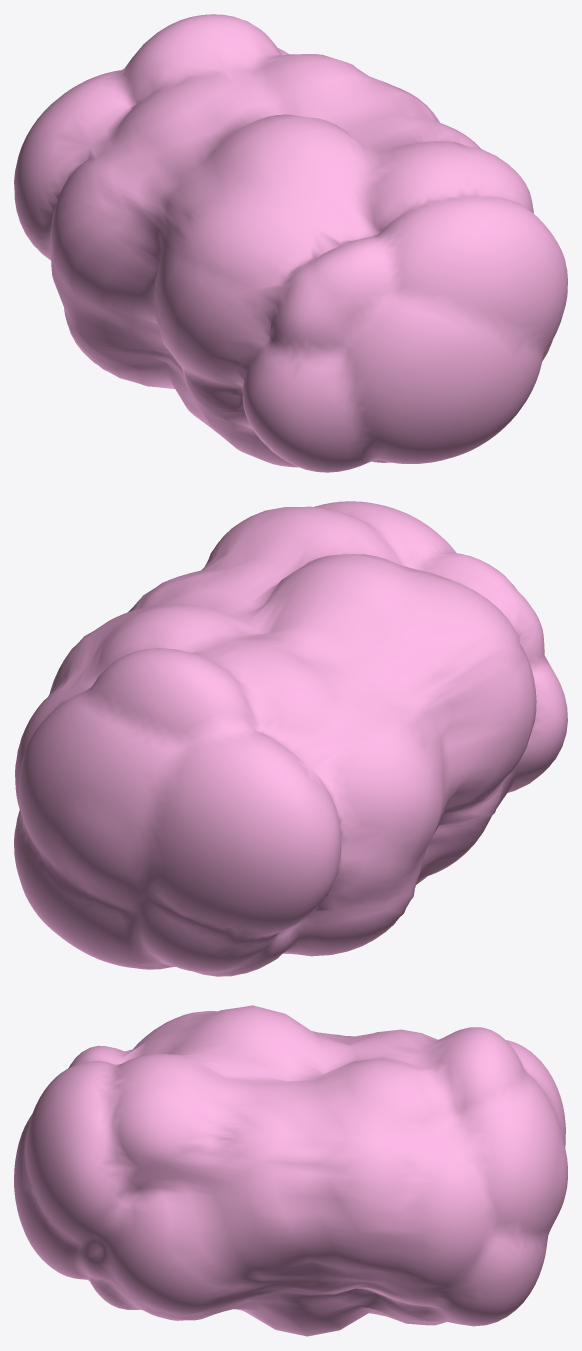
The model's file is cloud4.fbx.
3 views of the same model, one above another, from view 1: azimuth 30°, elevation 25°; view 2: azimuth 150°, elevation 25°; view 3: azimuth 270°, elevation 25° (orthographic). The views are drawn at different scales.
Visible parts, largest first — view 1: cloud4; view 2: cloud4; view 3: cloud4.
Part boxes in pixels (x1,y1,x2,y2): cloud4: (14,14,567,472); cloud4: (14,501,567,976); cloud4: (14,1005,567,1336).
Bounding box in the file's own units: 1797 × 1539 × 2683.
